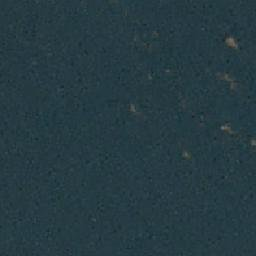debris: (222, 35, 240, 51), (220, 71, 235, 88), (219, 122, 231, 132), (128, 103, 138, 114), (181, 151, 191, 159)
